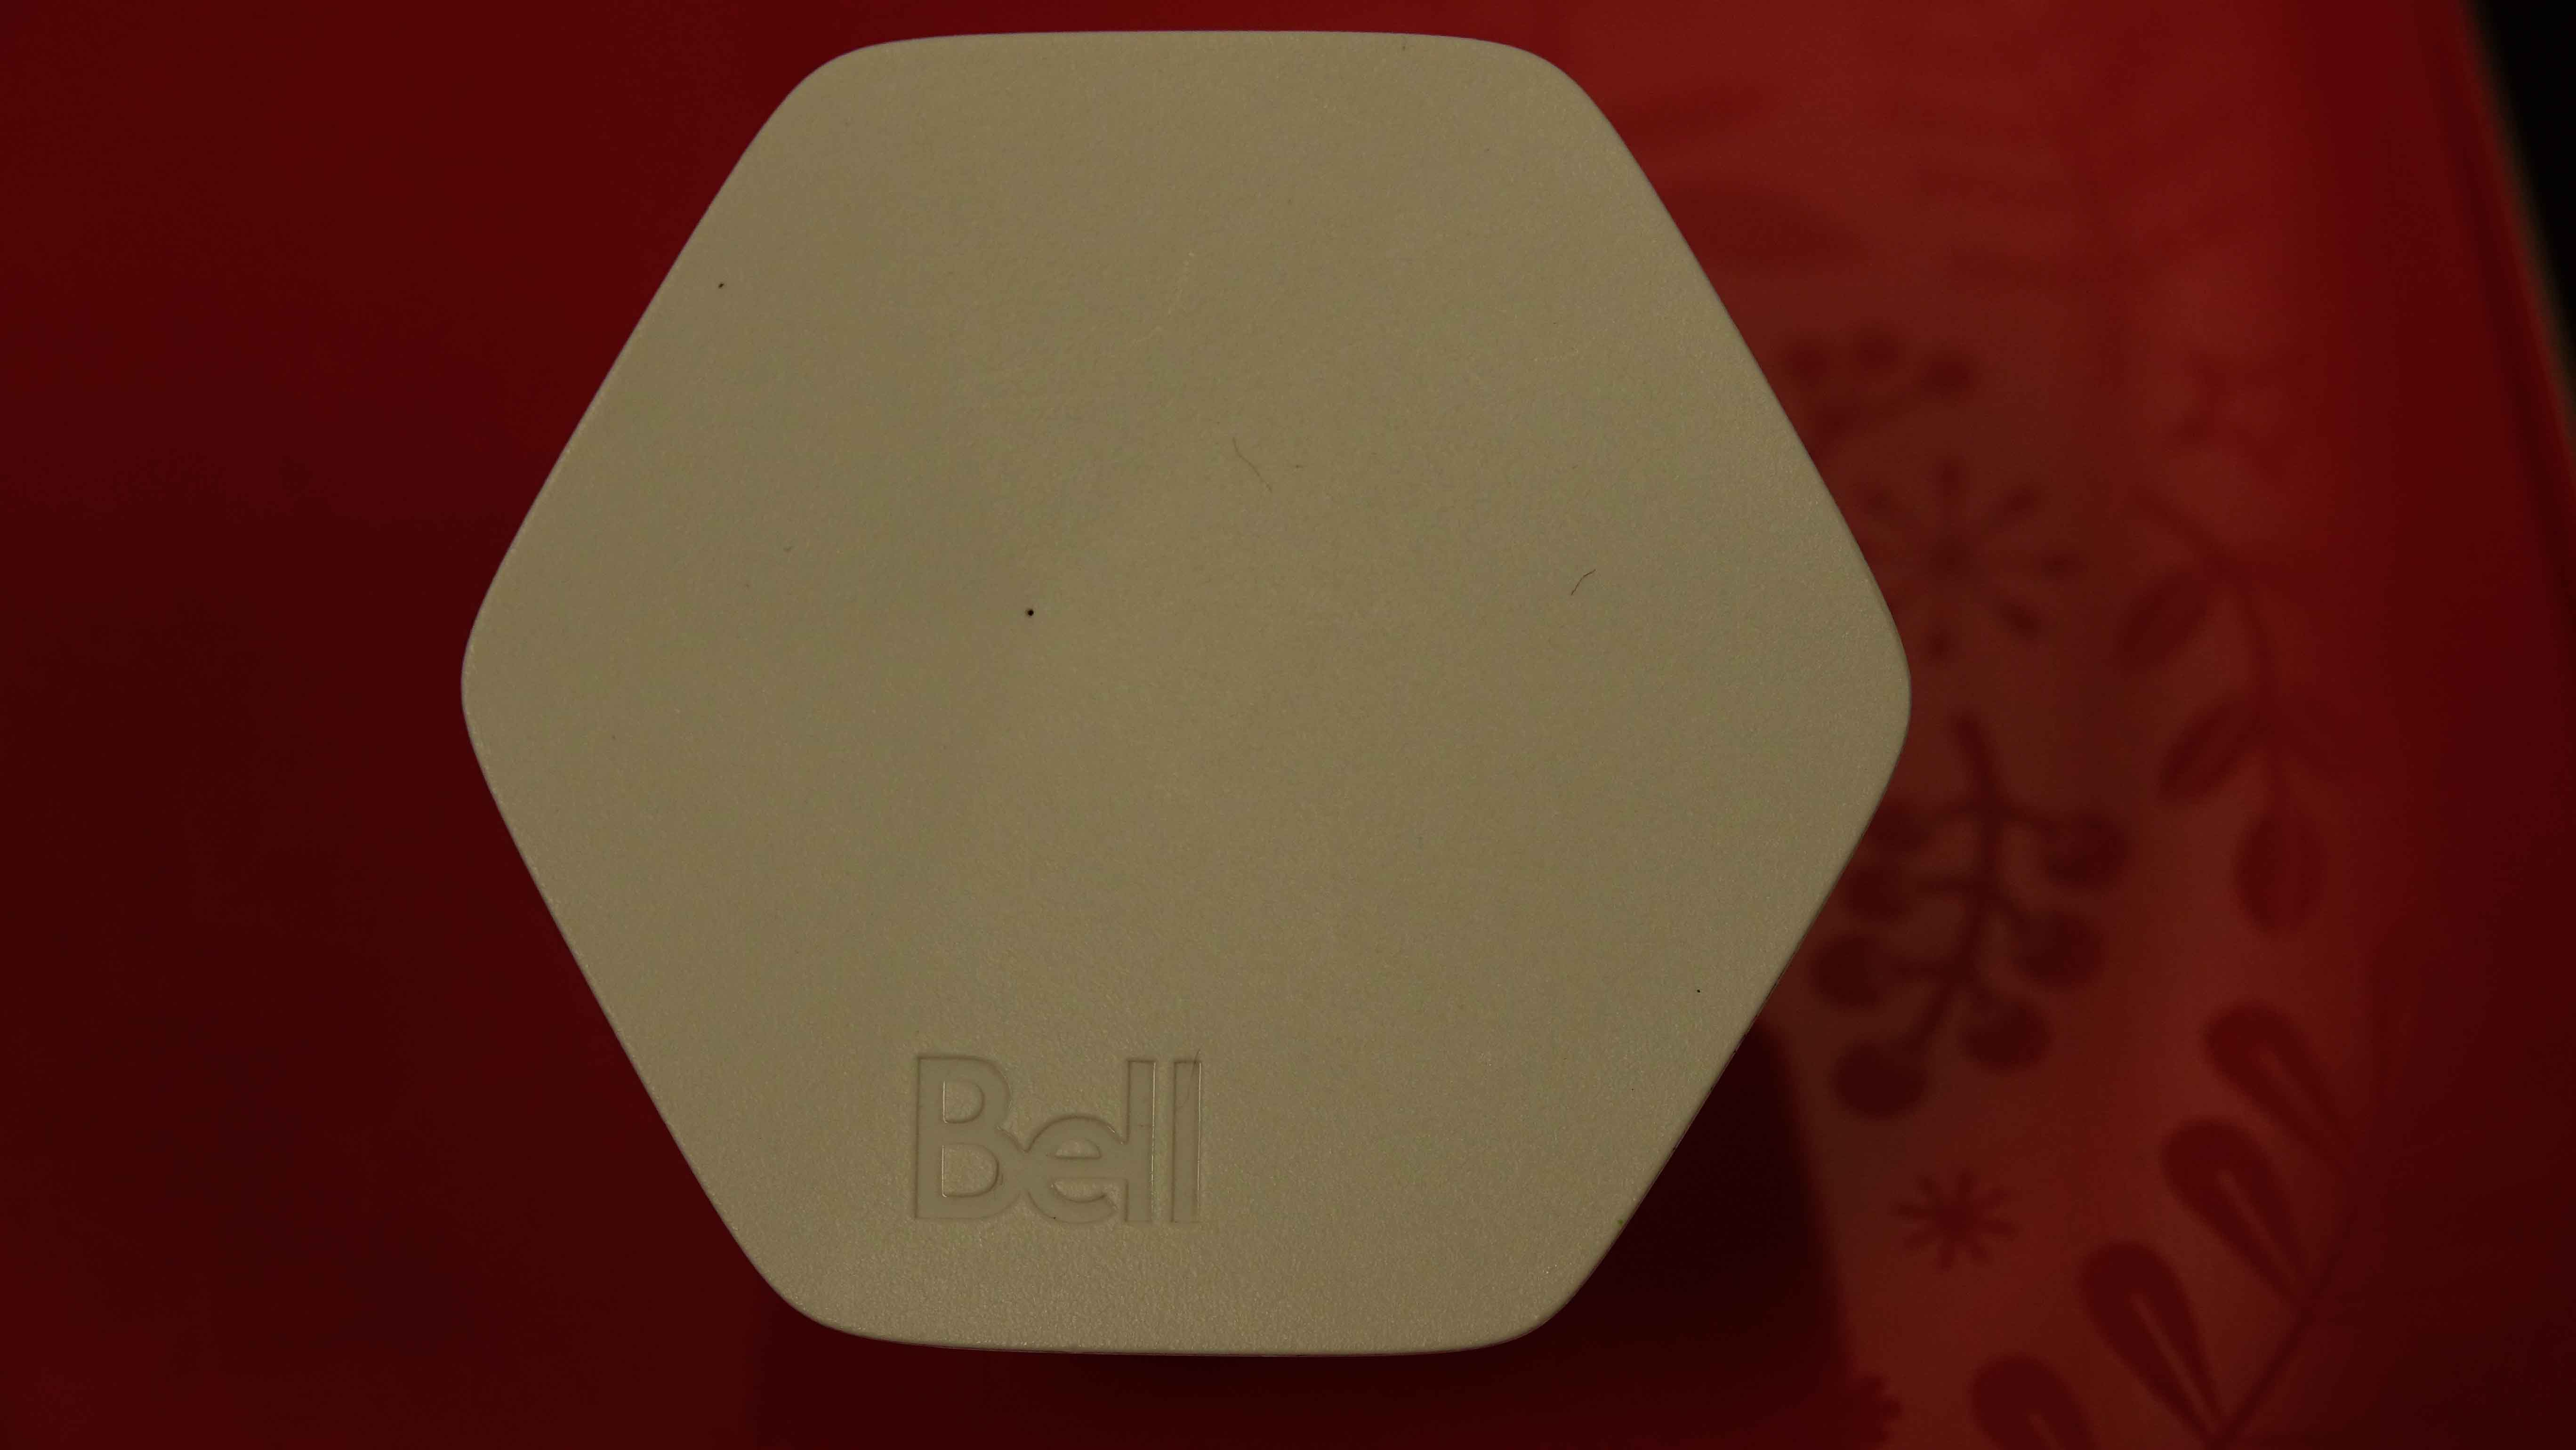pod: (441, 18, 1920, 1379)
